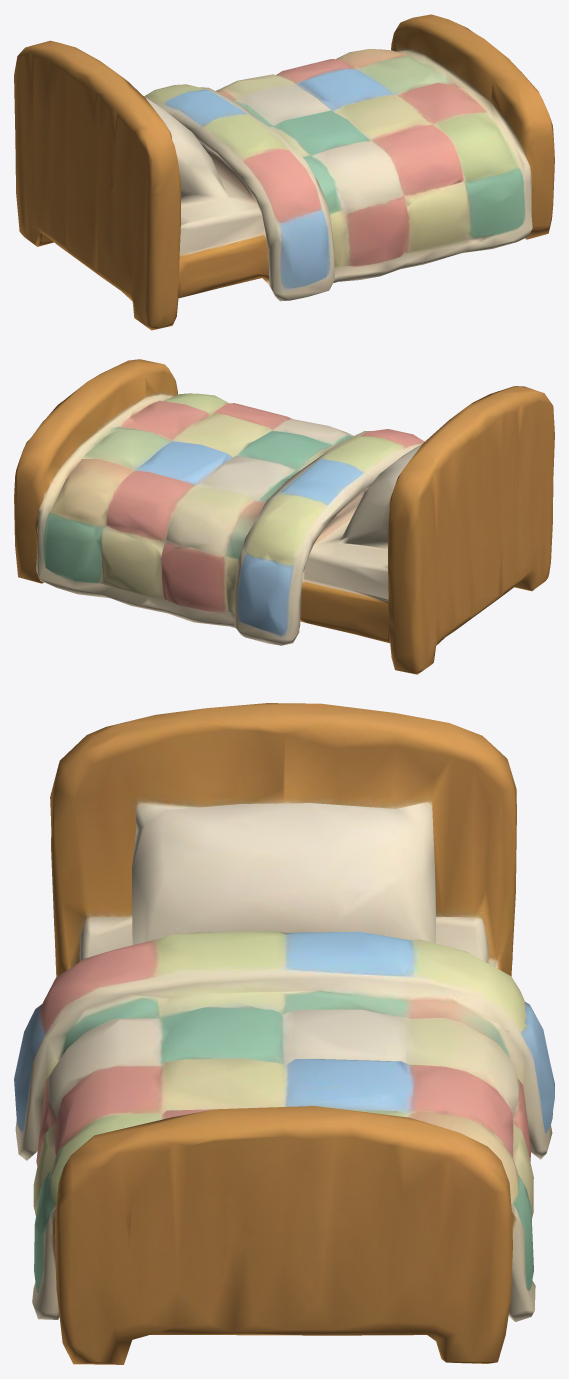
Rendered from interieur-lit.glb.
The picture shows the model from 3 angles, top to bottom: view 1: azimuth 30°, elevation 25°; view 2: azimuth 150°, elevation 25°; view 3: azimuth 270°, elevation 25°; orthographic projection. The views are drawn at different scales.
Visible parts, largest first — view 1: tripo_node_1988e534-7805-4020-baef-8a927009497d; view 2: tripo_node_1988e534-7805-4020-baef-8a927009497d; view 3: tripo_node_1988e534-7805-4020-baef-8a927009497d.
Boxes of the visible parts, left/top/right/bottom form: tripo_node_1988e534-7805-4020-baef-8a927009497d: left=14, top=14, right=554, bottom=330; tripo_node_1988e534-7805-4020-baef-8a927009497d: left=14, top=359, right=554, bottom=674; tripo_node_1988e534-7805-4020-baef-8a927009497d: left=14, top=703, right=554, bottom=1364.
Bounding box in the file's own units: 1 × 0.4987 × 0.7025.
Materials: 1 (1 with a texture image).
